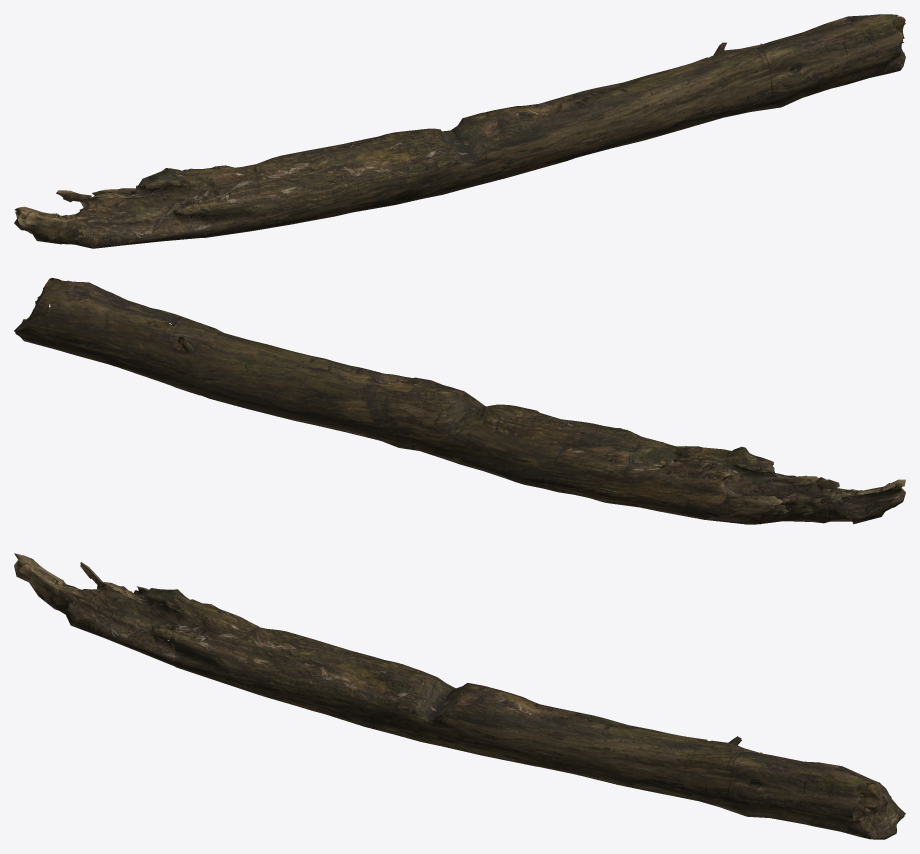
The model's file is dead_tree_trunk.glb.
3 views of the same model, one above another, from view 1: azimuth 30°, elevation 25°; view 2: azimuth 150°, elevation 25°; view 3: azimuth 330°, elevation 25° (orthographic).
Parts seen in each view (by area): view 1: dead_tree_trunk; view 2: dead_tree_trunk; view 3: dead_tree_trunk.
Boxes of the visible parts, left/top/right/bottom form: dead_tree_trunk: left=14, top=14, right=905, bottom=248; dead_tree_trunk: left=14, top=278, right=905, bottom=524; dead_tree_trunk: left=14, top=553, right=905, bottom=839.
Bounding box in the file's own units: 3.05 × 0.2898 × 0.2746.
1 material, 1 textured.
